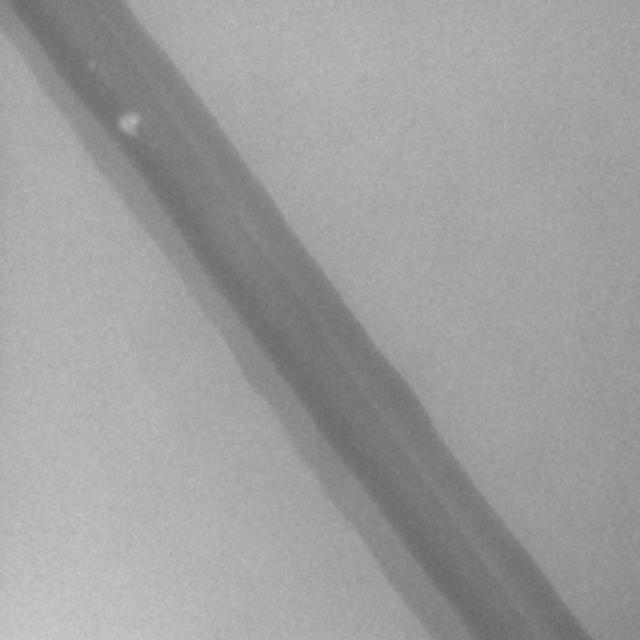slag inclusion: (117, 113, 139, 139)
